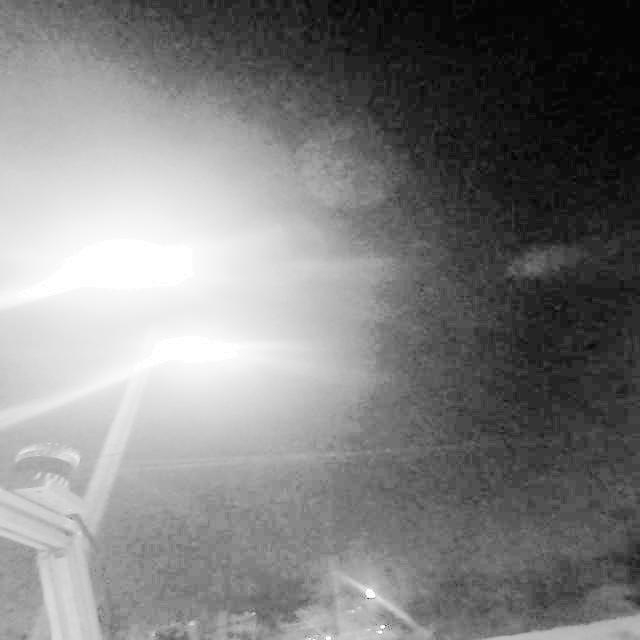Light: (54, 225, 192, 312), (148, 324, 251, 387)
